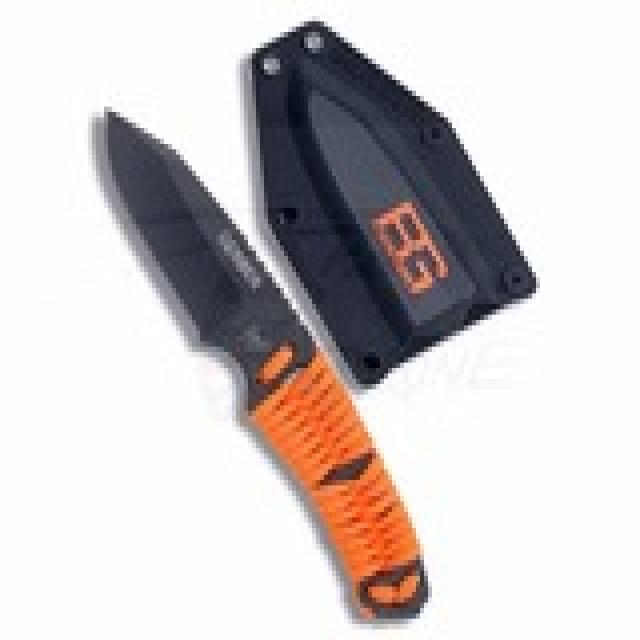Knife: (88, 94, 428, 627)
